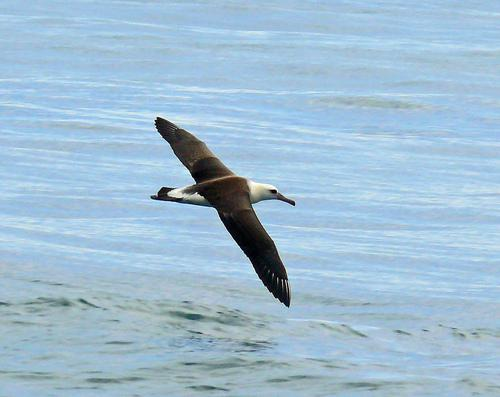002.Laysan_Albatross: (152, 116, 296, 310)
